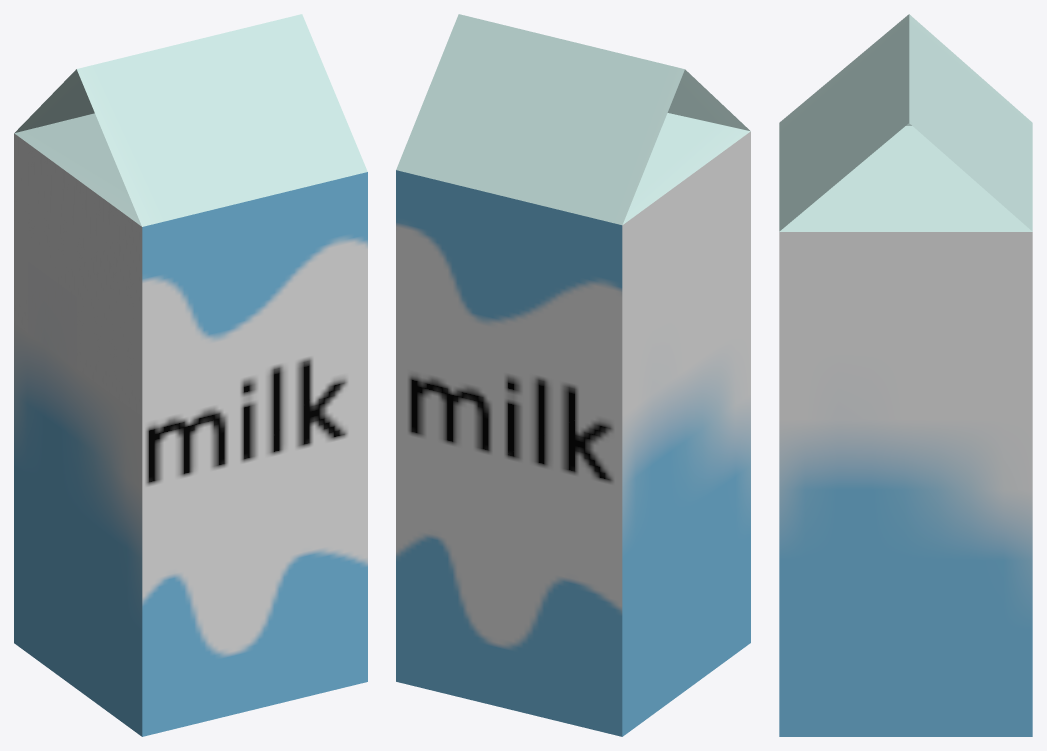
The model's file is Milk.fbx.
The picture shows the model from 3 angles, left to right: view 1: azimuth 30°, elevation 25°; view 2: azimuth 150°, elevation 25°; view 3: azimuth 270°, elevation 25°; orthographic projection.
Visible parts, largest first — view 1: Milk; view 2: Milk; view 3: Milk.
Boxes of the visible parts, box(x1,y1,x2,y2) form: Milk: box(14, 14, 367, 736); Milk: box(396, 14, 750, 736); Milk: box(779, 14, 1032, 736).
Bounding box in the file's own units: 7.65 × 20.09 × 7.52.
